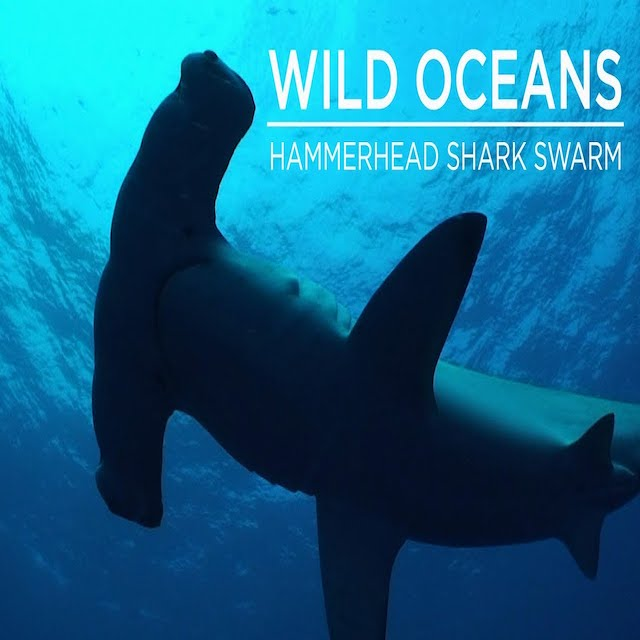hammerhead: (77, 35, 451, 596)
